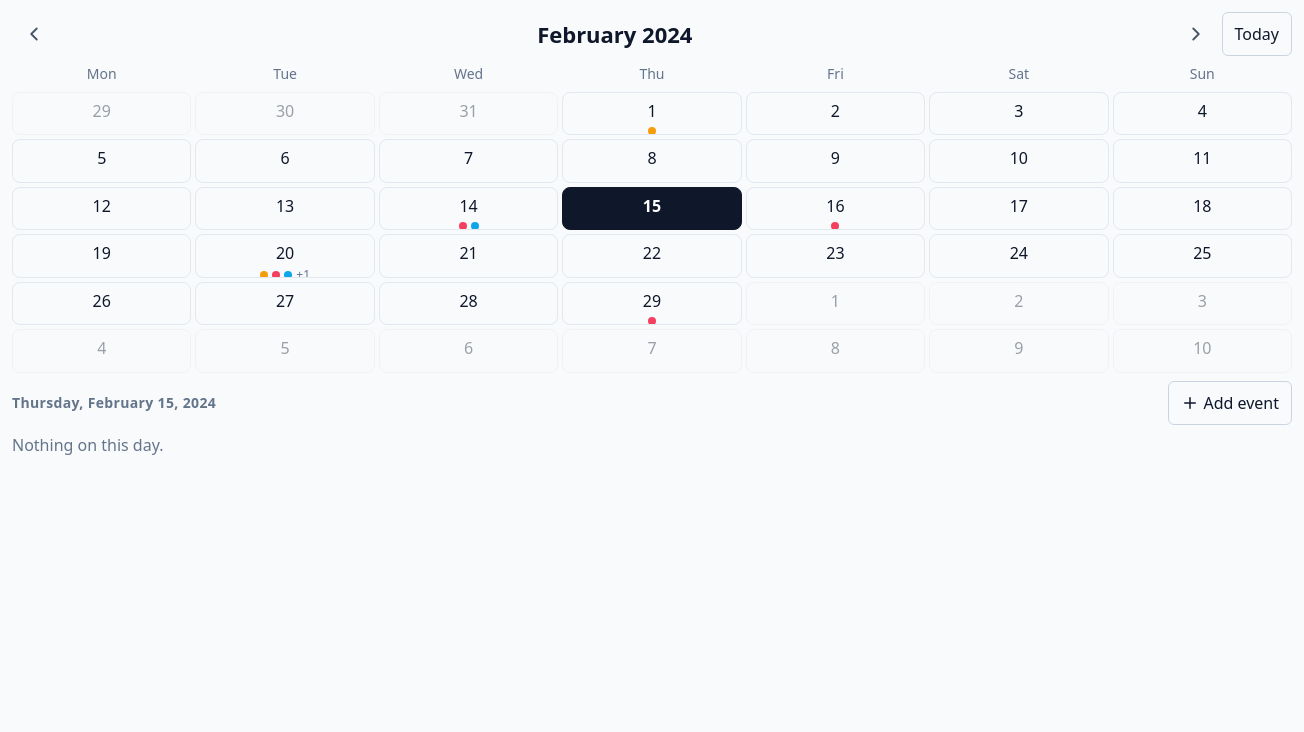
Test: Calendar — items land on the right days › opens a day's single item with badge, notes and link
Expected: the heading "February 2024" is shown, [537,19,692,49]
Click the 1st button "1" at [652, 114], box [562,92,742,136]
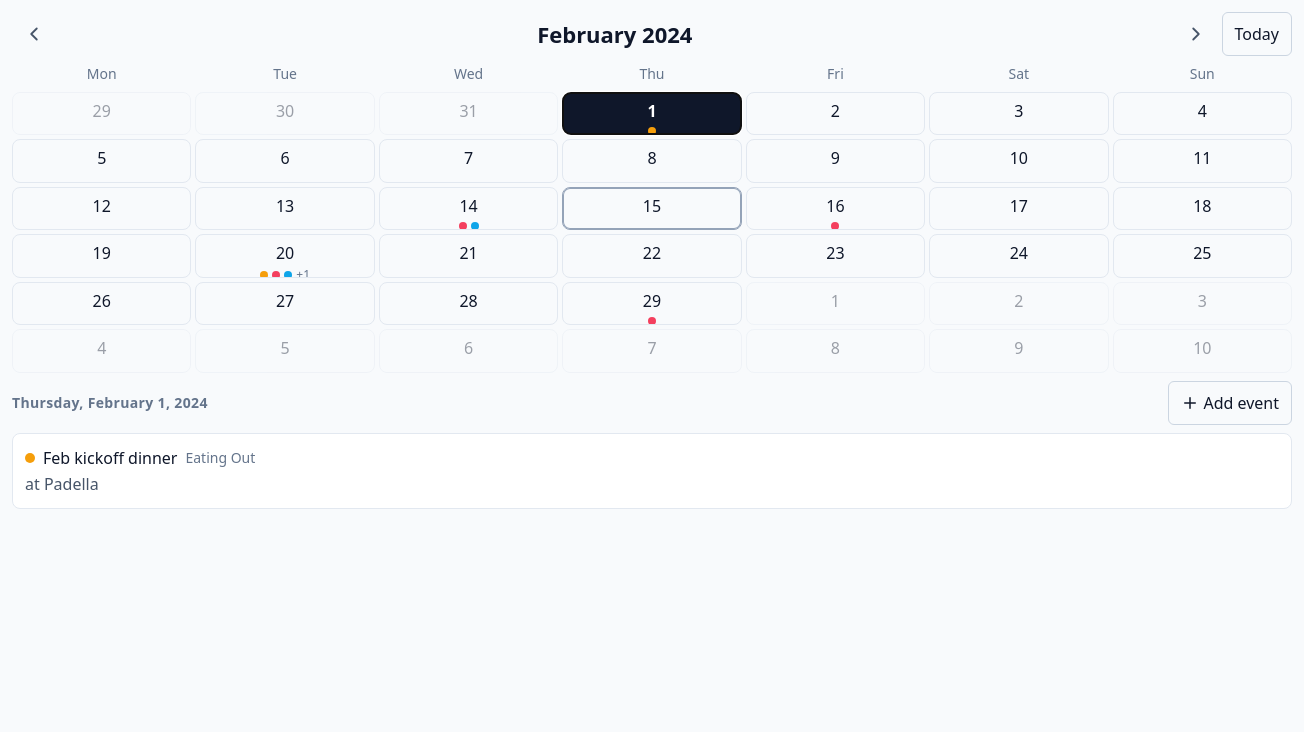
Result: the text "Eating Out" is shown at [186,448,255,468]
Result: the text "at Padella" is shown at [25,473,99,495]
